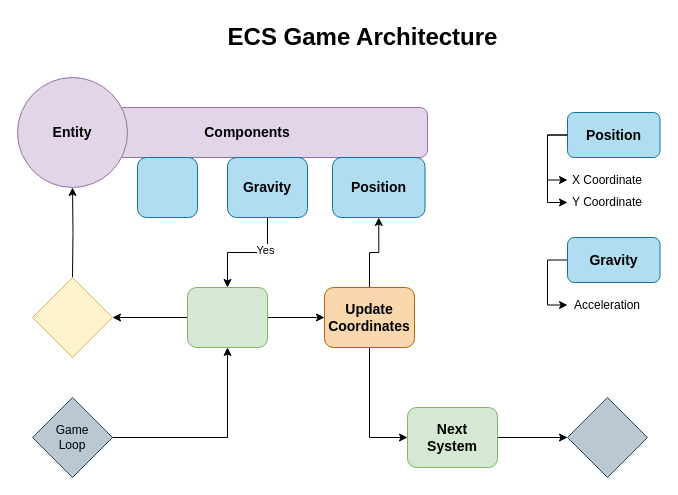
Some shapes in this 678 by 495 pixel diagram are drawn without their labels. The centre of each missing label's shape, as x and y in pixels:
Gravity System: [227,317]
Has Gravity: [72,317]
Next Game Loop: [607,437]
Size: [167,187]
